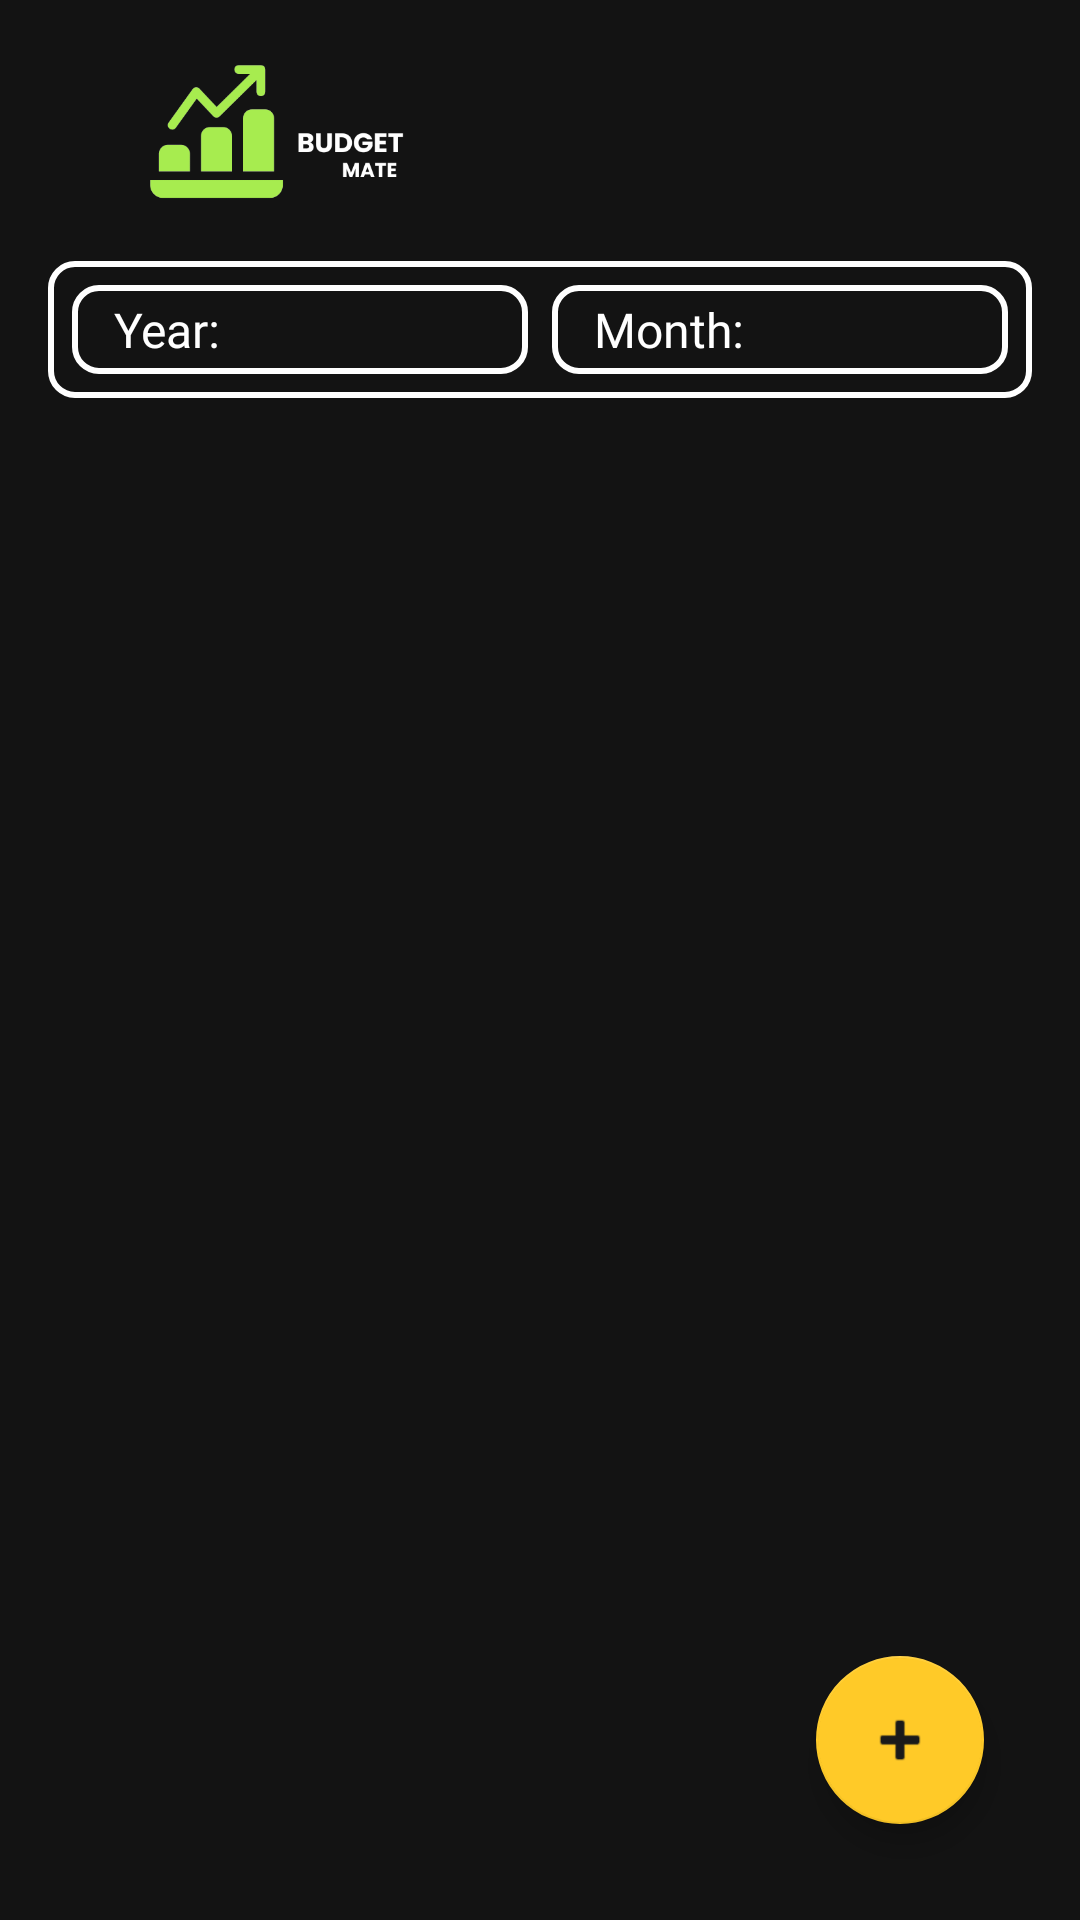

Locate icon controls on the screen. Image size 1080 x 1920, boxes as (x1, y1, x2, y2).
Add transaction: (816, 1656, 984, 1824)
